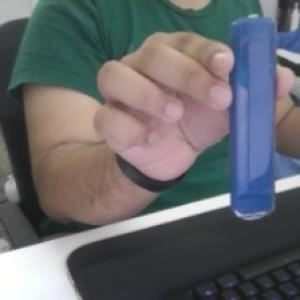Diamond-E-Ciggirate: (228, 11, 280, 223)
